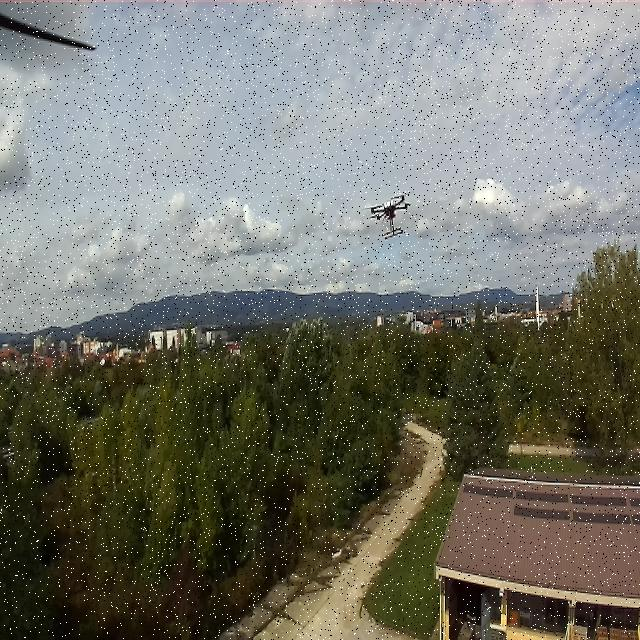UAV: (363, 186, 417, 242)
